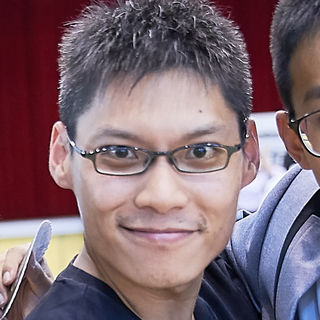eye: (101, 140, 146, 164), (180, 139, 223, 164)
